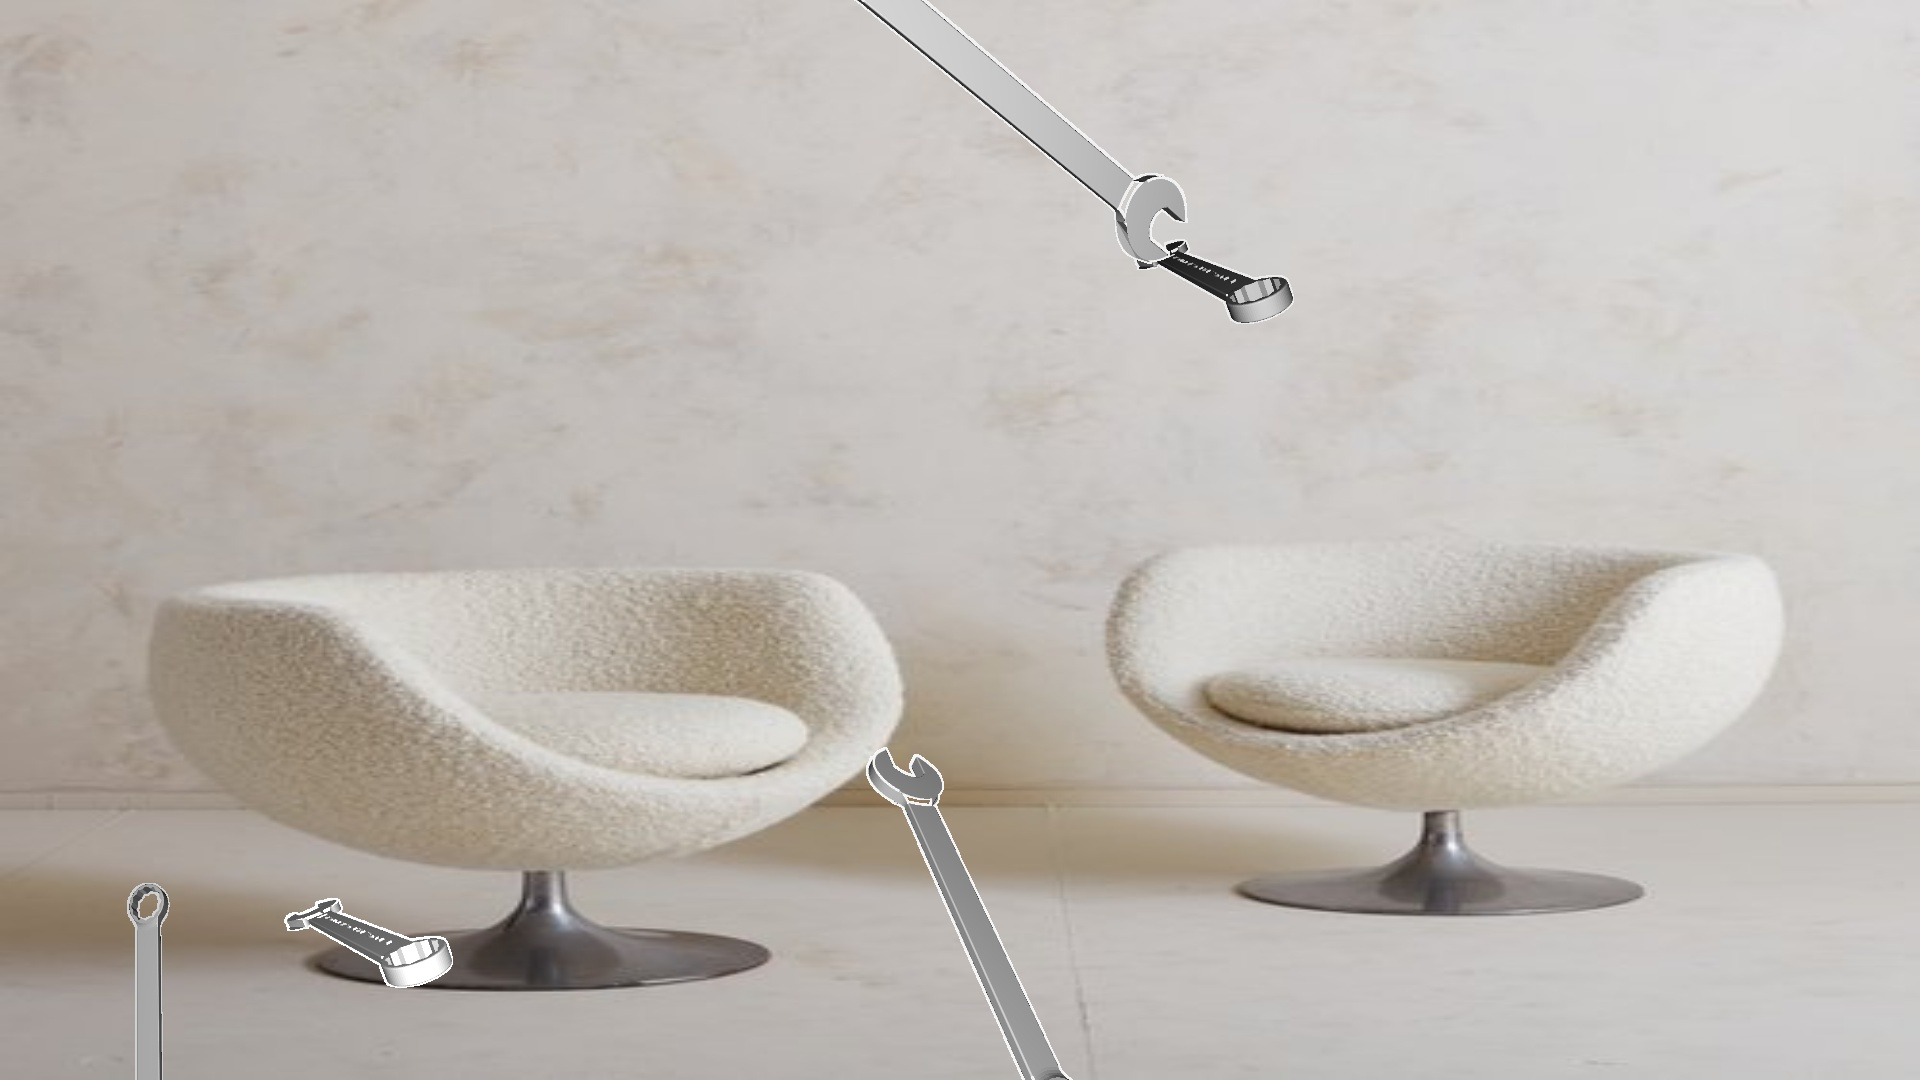Mixed Key: (855, 0, 1187, 262), (866, 746, 1072, 1079), (284, 898, 452, 986), (1134, 239, 1294, 323), (127, 884, 169, 1079)
